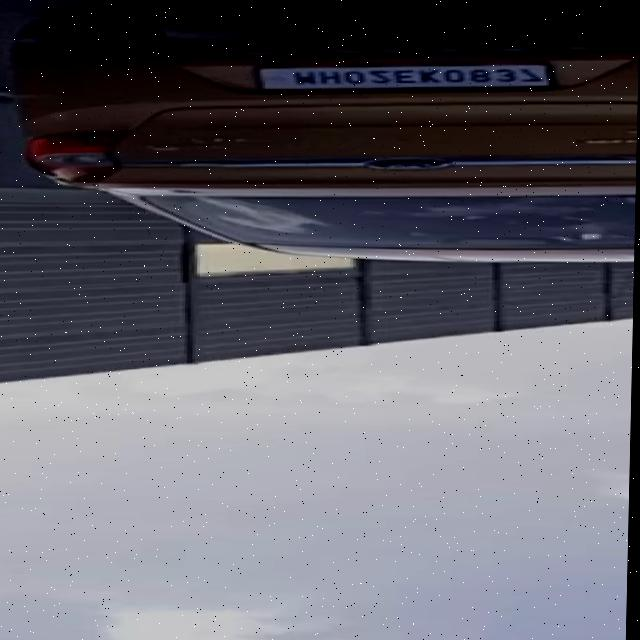plate: (253, 59, 565, 94)
